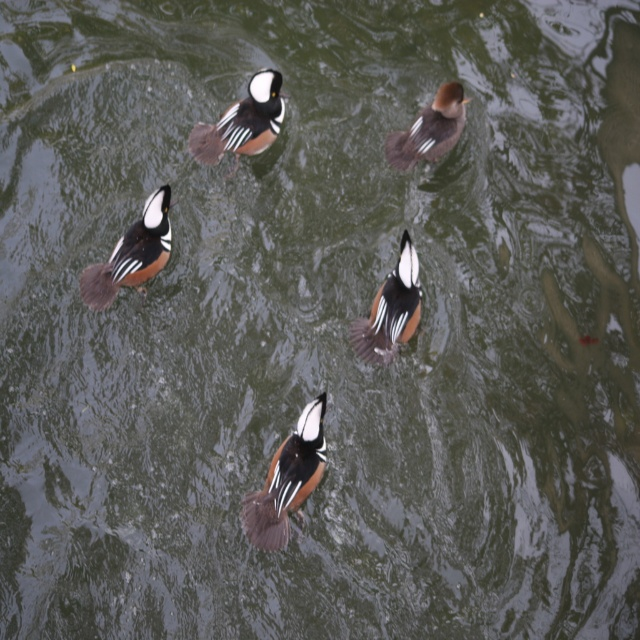Duck: (238, 387, 331, 558), (78, 178, 177, 312), (185, 67, 293, 189), (352, 227, 420, 369), (384, 74, 476, 172)
